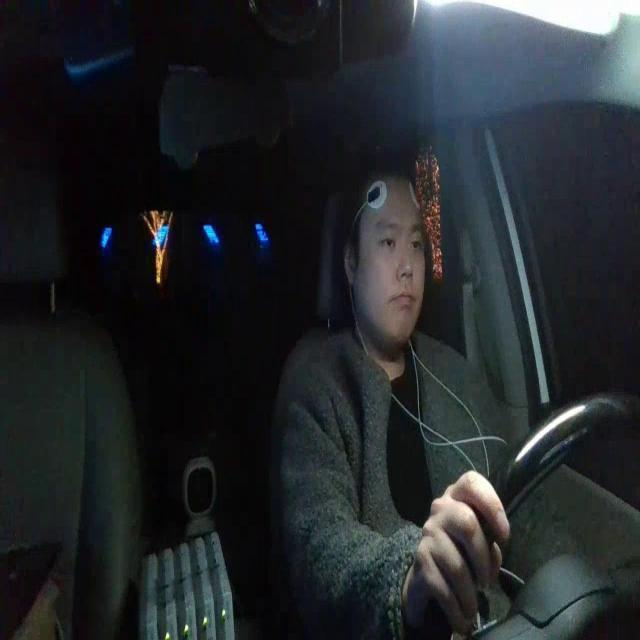Attentive: (338, 156, 429, 344)
